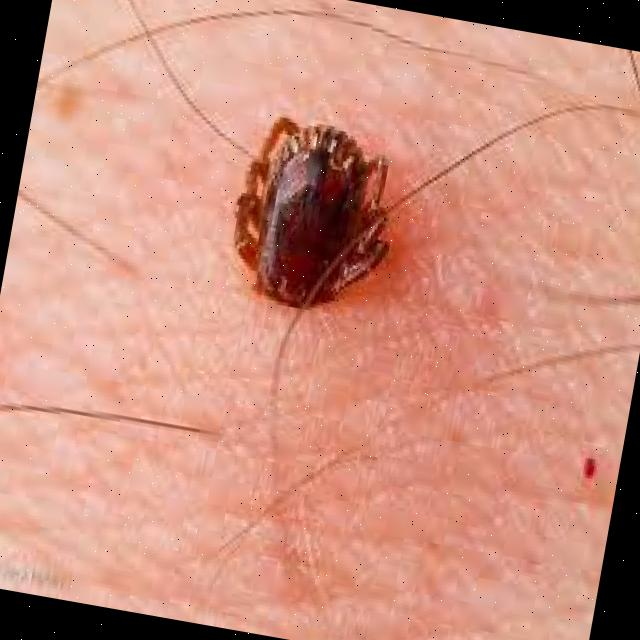kene: (174, 85, 452, 358)
